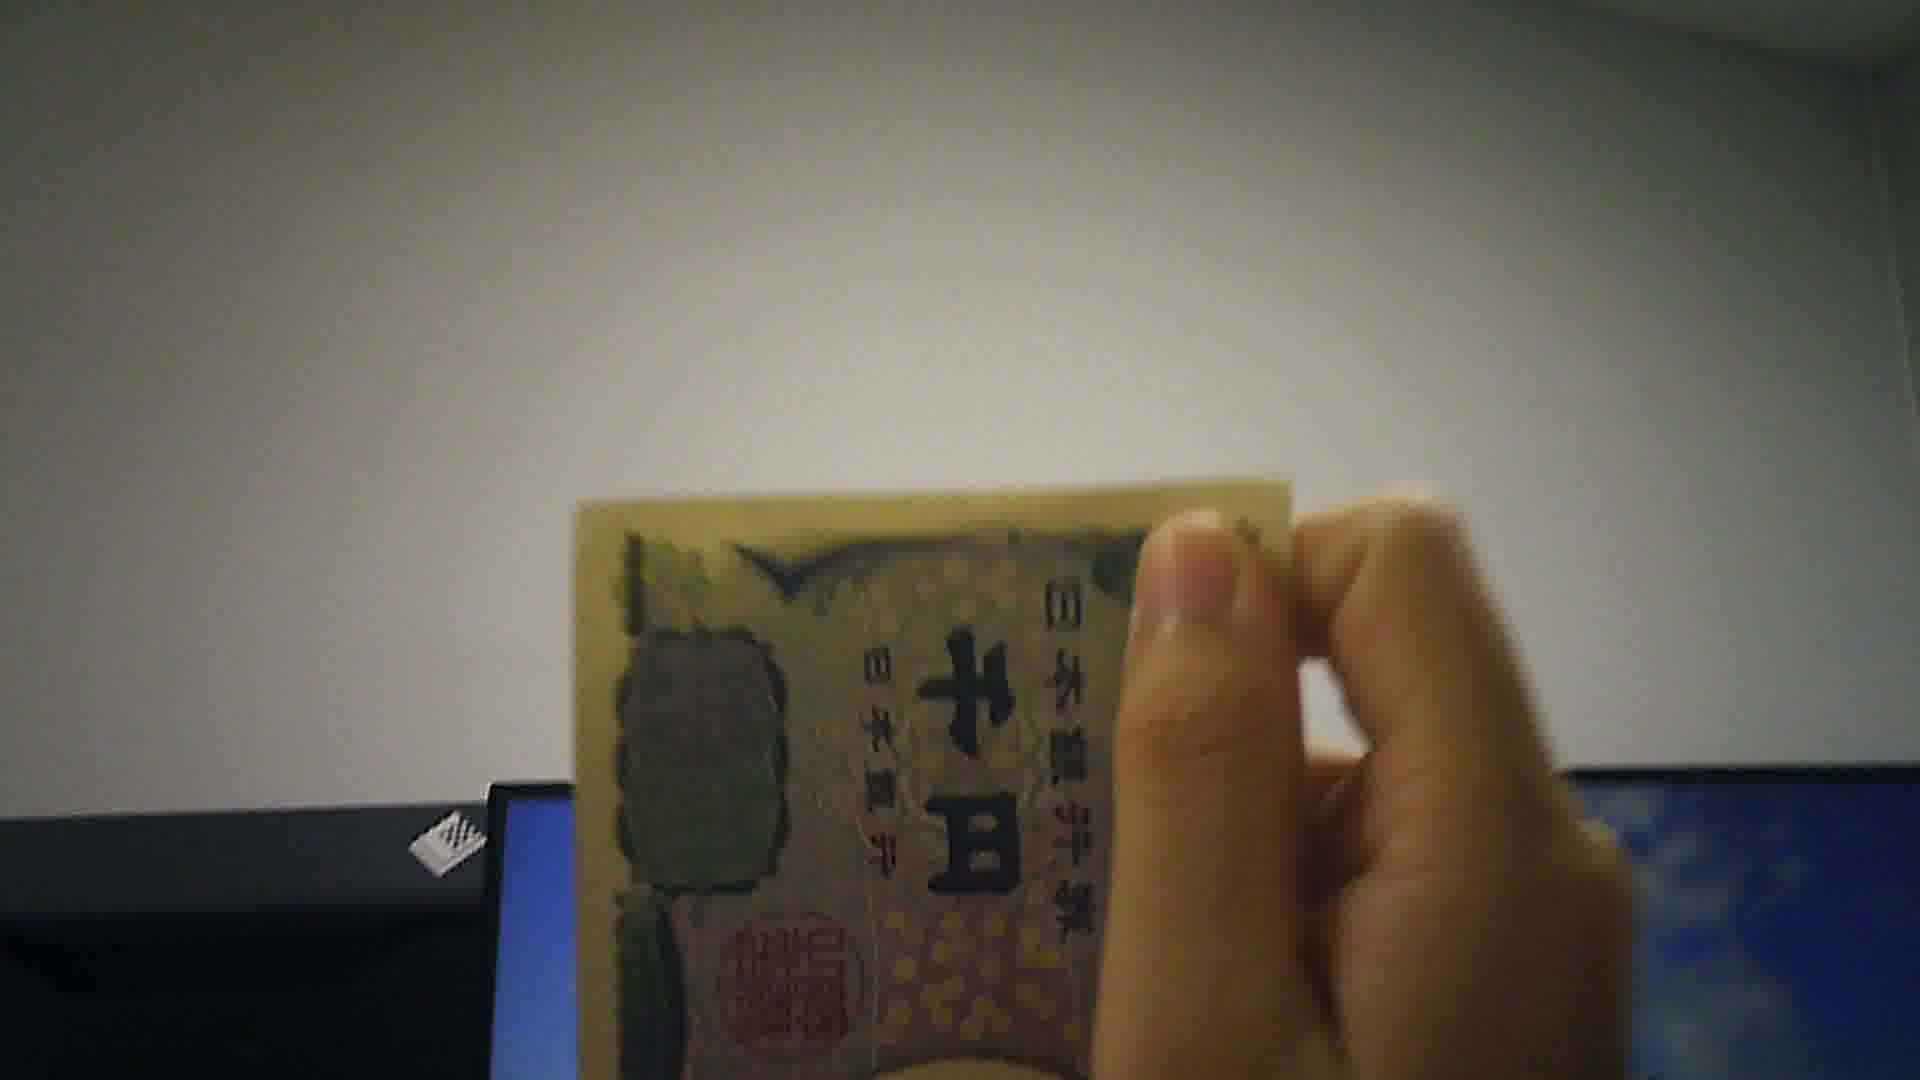1,000 Yen: (575, 476, 1275, 1079)
